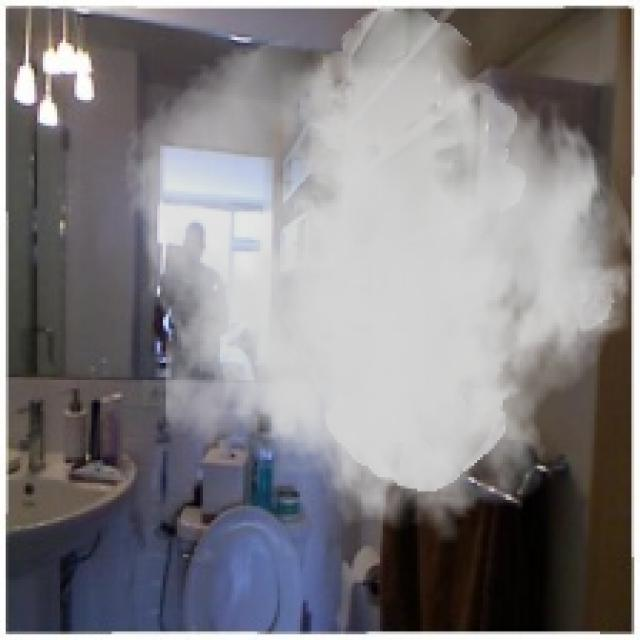smoke: (120, 6, 637, 548)
